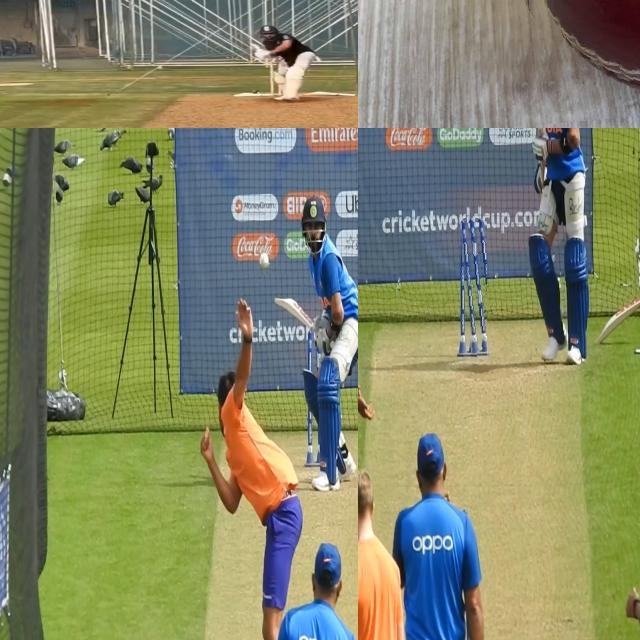Cricket ball: (509, 0, 640, 125), (256, 248, 270, 275), (251, 90, 259, 94)
Stumps: (458, 218, 487, 358)
